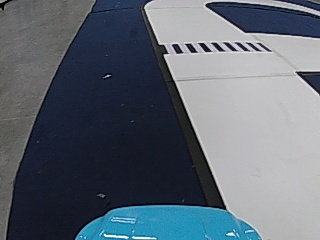CrossWalk: (163, 38, 260, 55)
